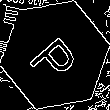P_NE: (25, 25, 85, 85)
